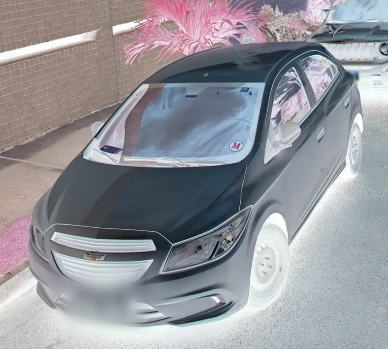car: (28, 42, 364, 326)
